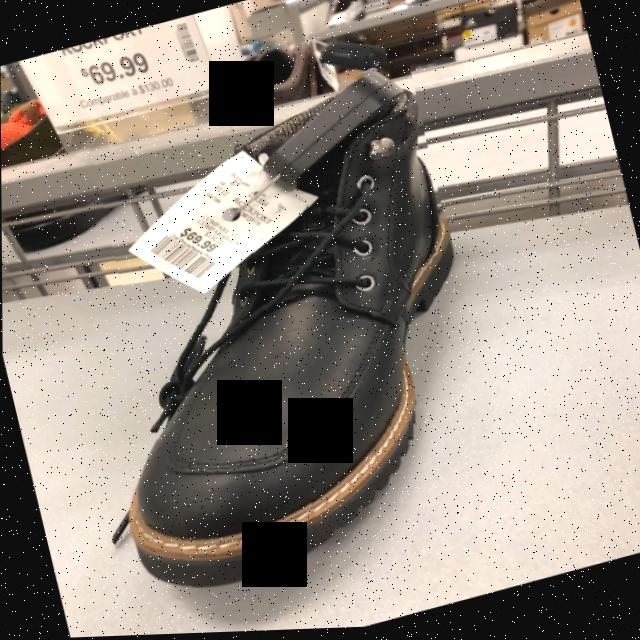shoe: (112, 71, 454, 592)
